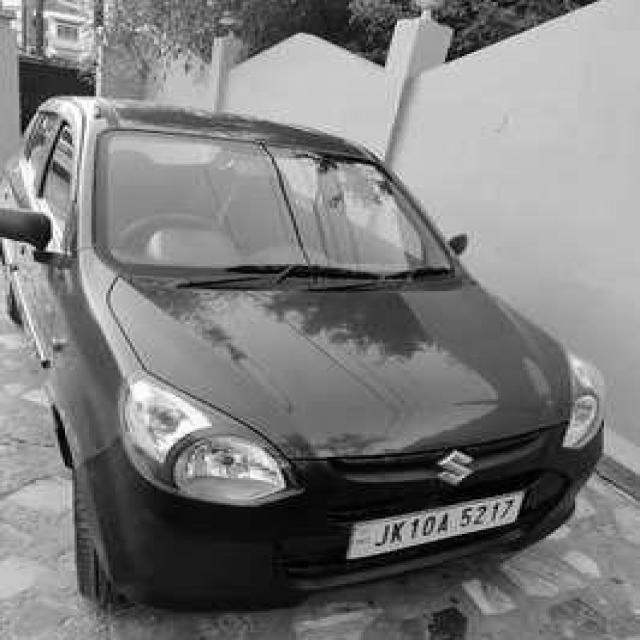car: (7, 92, 604, 619)
license-plate: (344, 486, 529, 565)
